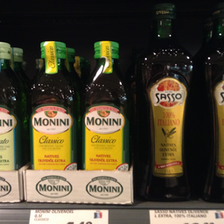oil: (139, 4, 195, 200), (78, 38, 131, 169), (26, 41, 79, 169)
